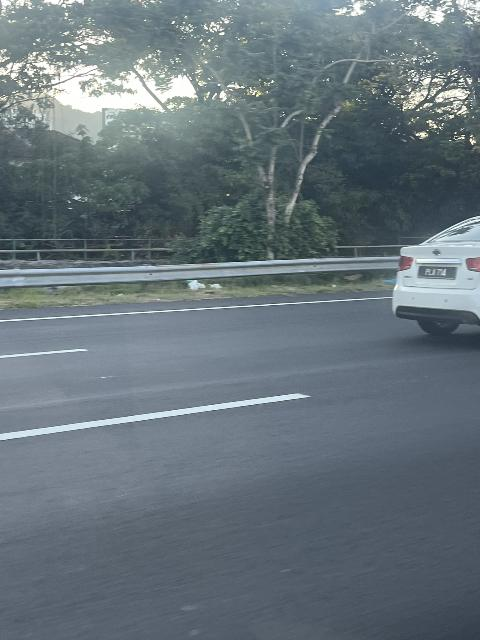License_Plate: (410, 263, 461, 285)
car: (386, 211, 480, 351)
